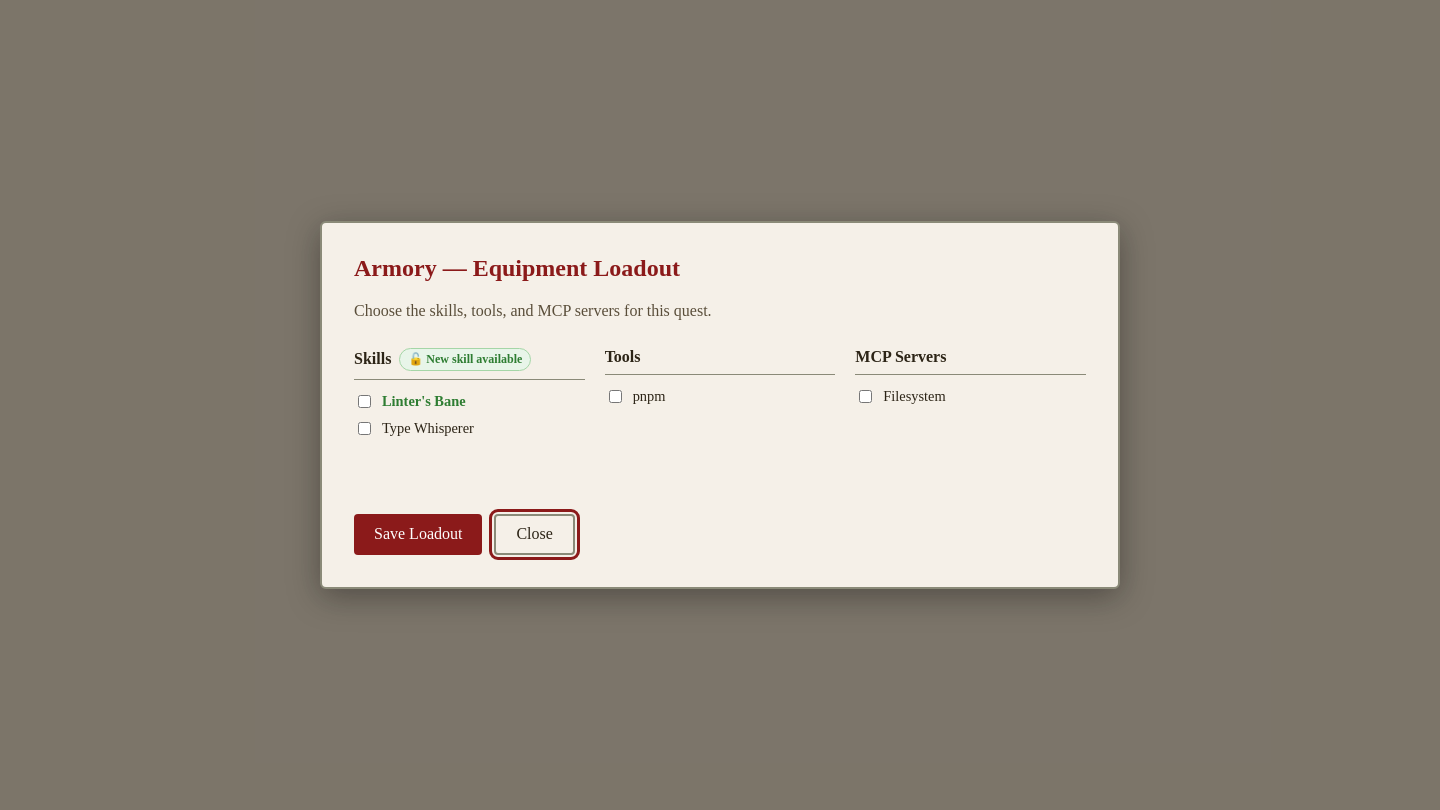
it: LoadoutPanel › shows success status announced via aria-live after save
The image size is (1440, 810).
Click the button "Save Loadout" at (418, 534), box [354, 514, 482, 555]
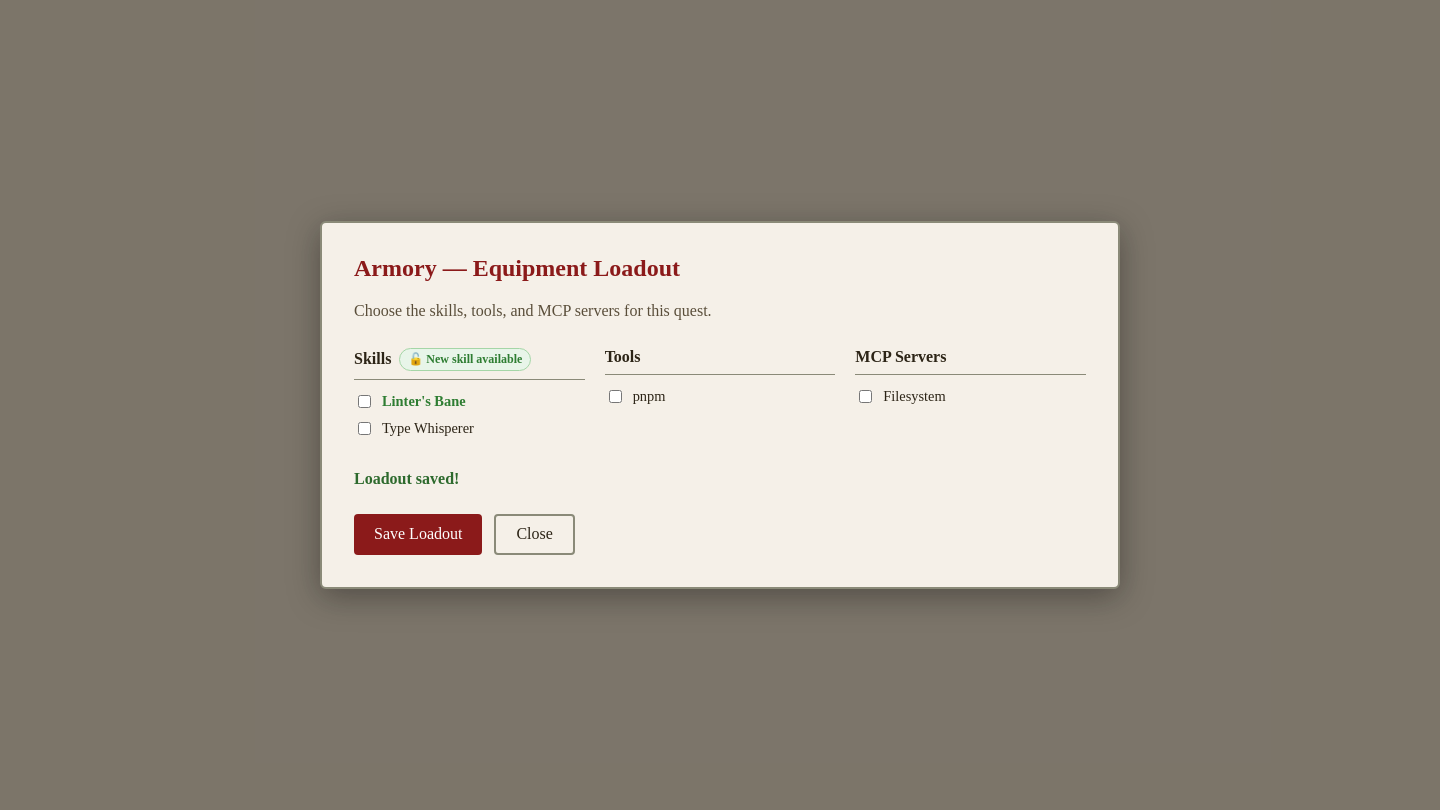
Result: the text "Loadout saved!" is shown at [354, 470, 459, 487]
